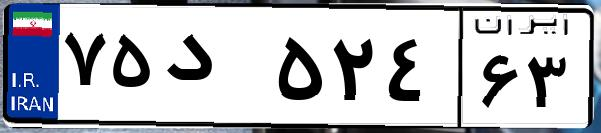2: (330, 28, 385, 110)
3: (525, 38, 570, 115)
4: (385, 28, 445, 110)
5: (270, 28, 330, 110), (110, 28, 158, 98)
6: (475, 38, 525, 113)
7: (57, 26, 110, 100)
د: (158, 20, 270, 120)
